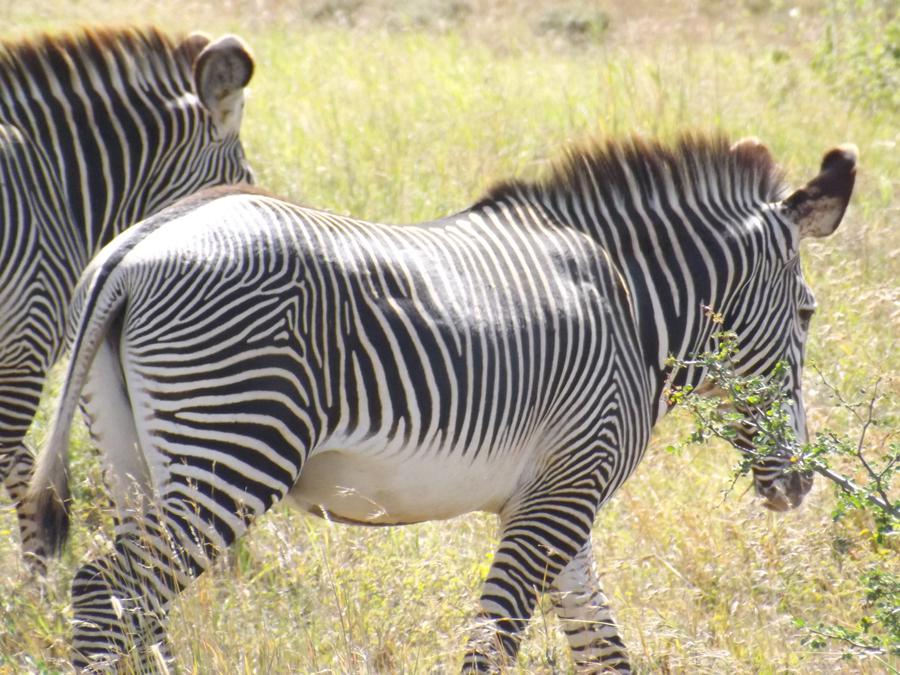zebra_grevys: (102, 173, 606, 516)
